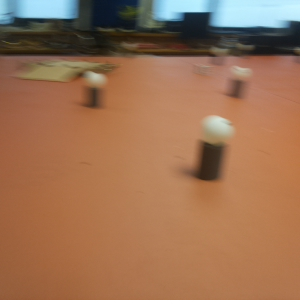obstacle: (195, 116, 235, 185), (81, 73, 110, 111), (227, 63, 253, 104), (209, 47, 228, 68), (235, 44, 254, 61), (290, 45, 300, 66)
side: (86, 63, 120, 76)
slope: (12, 65, 80, 84)
